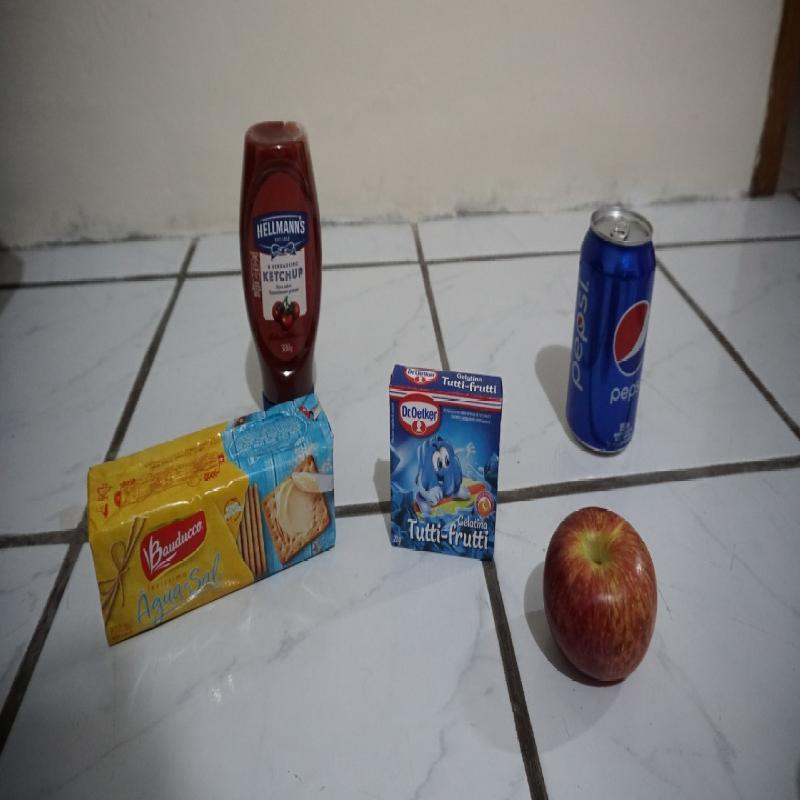Apple: (535, 495, 658, 690)
Cracker: (91, 394, 339, 640)
Gelatine: (383, 360, 507, 561)
Ketchup: (240, 116, 321, 384)
Soda can: (564, 202, 662, 453)
